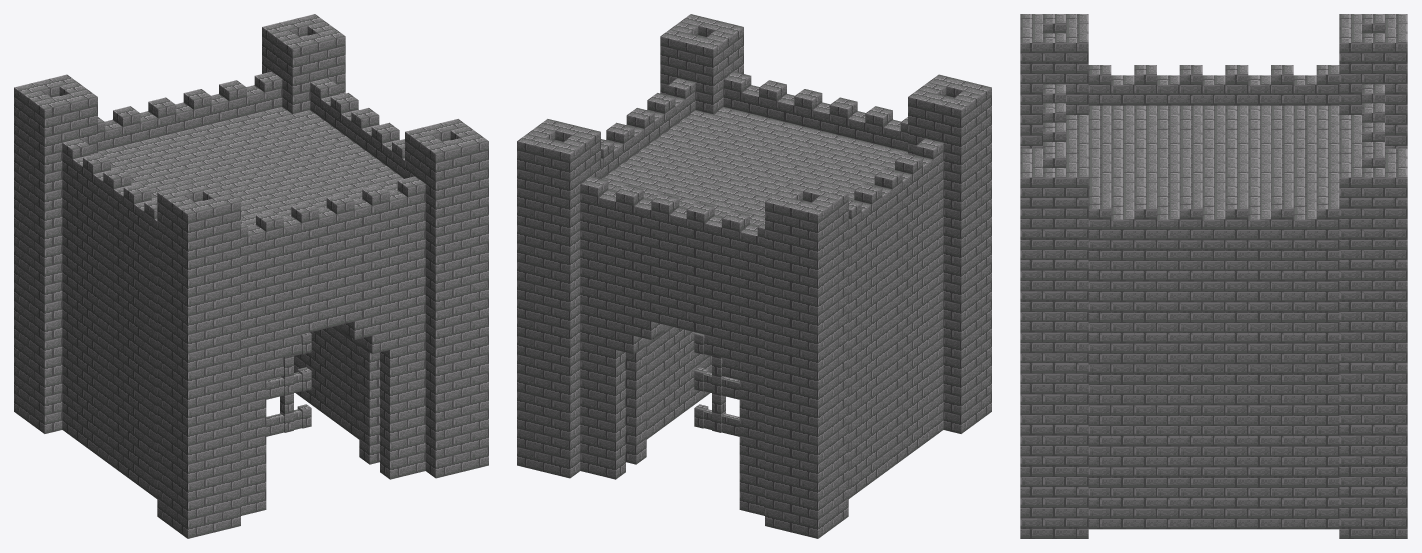
File: Gate_walls.glb
The picture shows the model from 3 angles, left to right: view 1: azimuth 30°, elevation 25°; view 2: azimuth 150°, elevation 25°; view 3: azimuth 270°, elevation 25°; orthographic projection. The views are drawn at different scales.
Parts seen in each view (by area): view 1: Gate_2, Gate_1, Gate_Cage; view 2: Gate_2, Gate_1, Gate_Cage; view 3: Gate_2.
Part boxes in pixels (box(x1,y1,x2,y2)): Gate_2: box(14, 14, 488, 538); Gate_1: box(294, 324, 379, 464); Gate_Cage: box(266, 332, 311, 436); Gate_2: box(517, 14, 991, 538); Gate_1: box(626, 324, 711, 464); Gate_Cage: box(694, 332, 739, 436); Gate_2: box(1020, 14, 1407, 538).
Size of the model in its own units: 17 by 17.5 by 17.
Materials: 1 (1 with a texture image).
